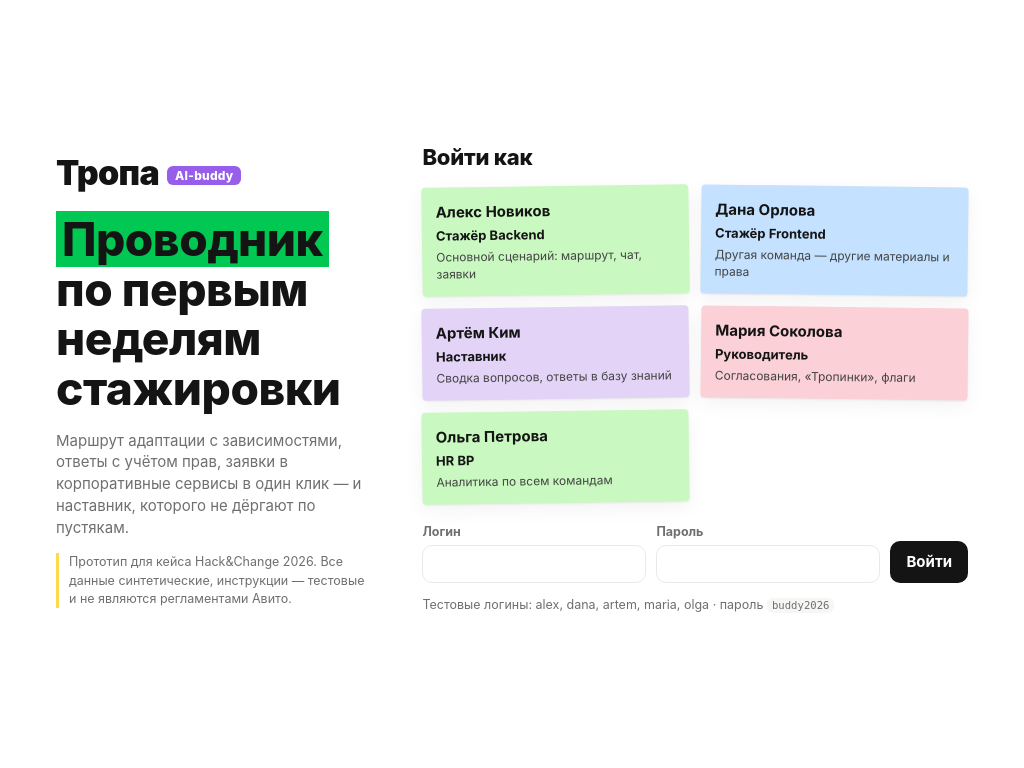
Test: App › [UI-01] shows login when unauthenticated and logs in with a persona
Click the text "Алекс Новиков".
click(493, 211)  # box [436, 200, 551, 223]
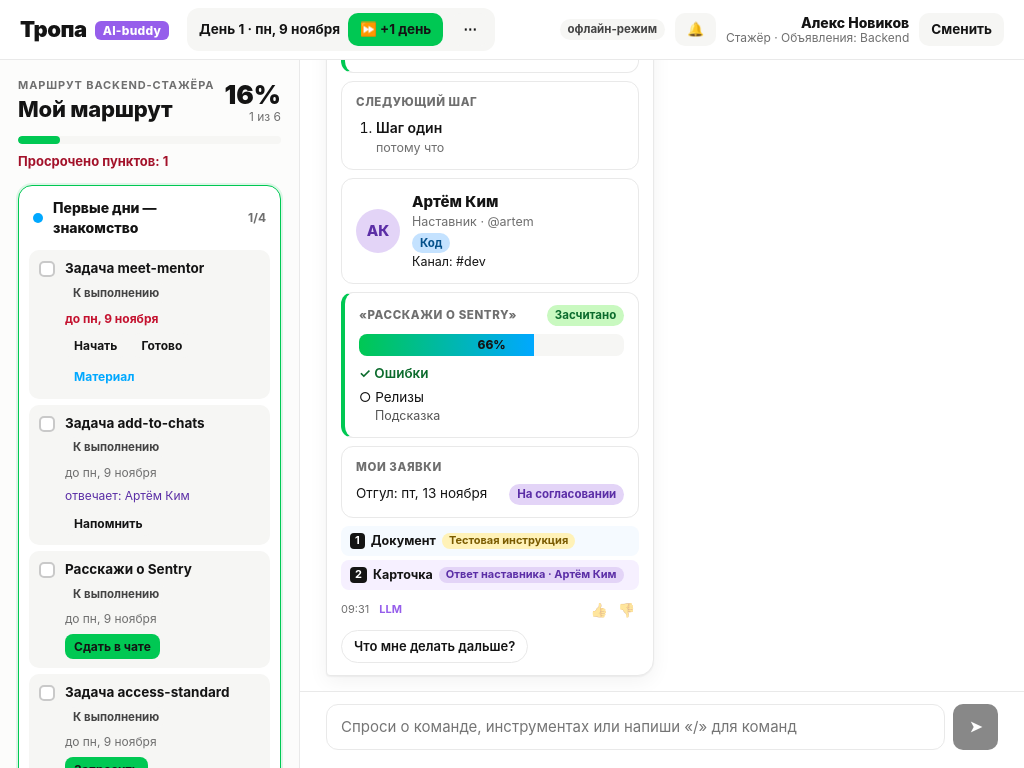
Expected: the heading "Мой маршрут" is shown, [18, 96, 172, 122]
Expected: the element named "Чат с Тропой" is shown
Expected: the text "Следующий шаг" is shown, [356, 95, 477, 109]
